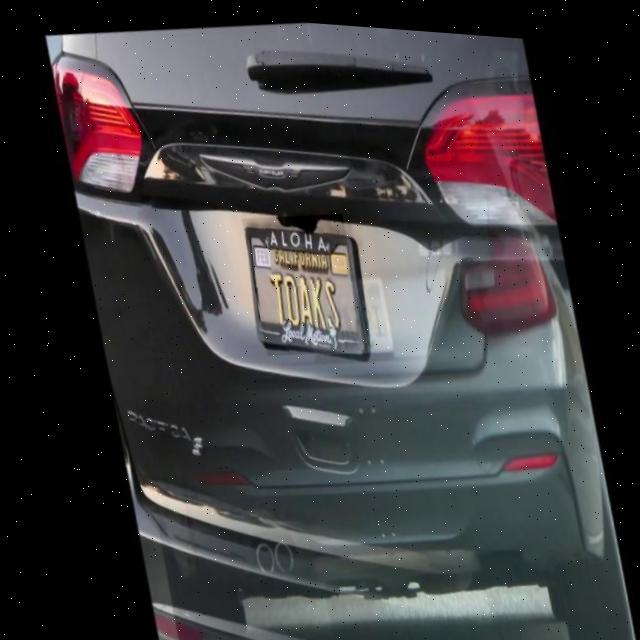LicensePlate: (238, 202, 364, 358)
